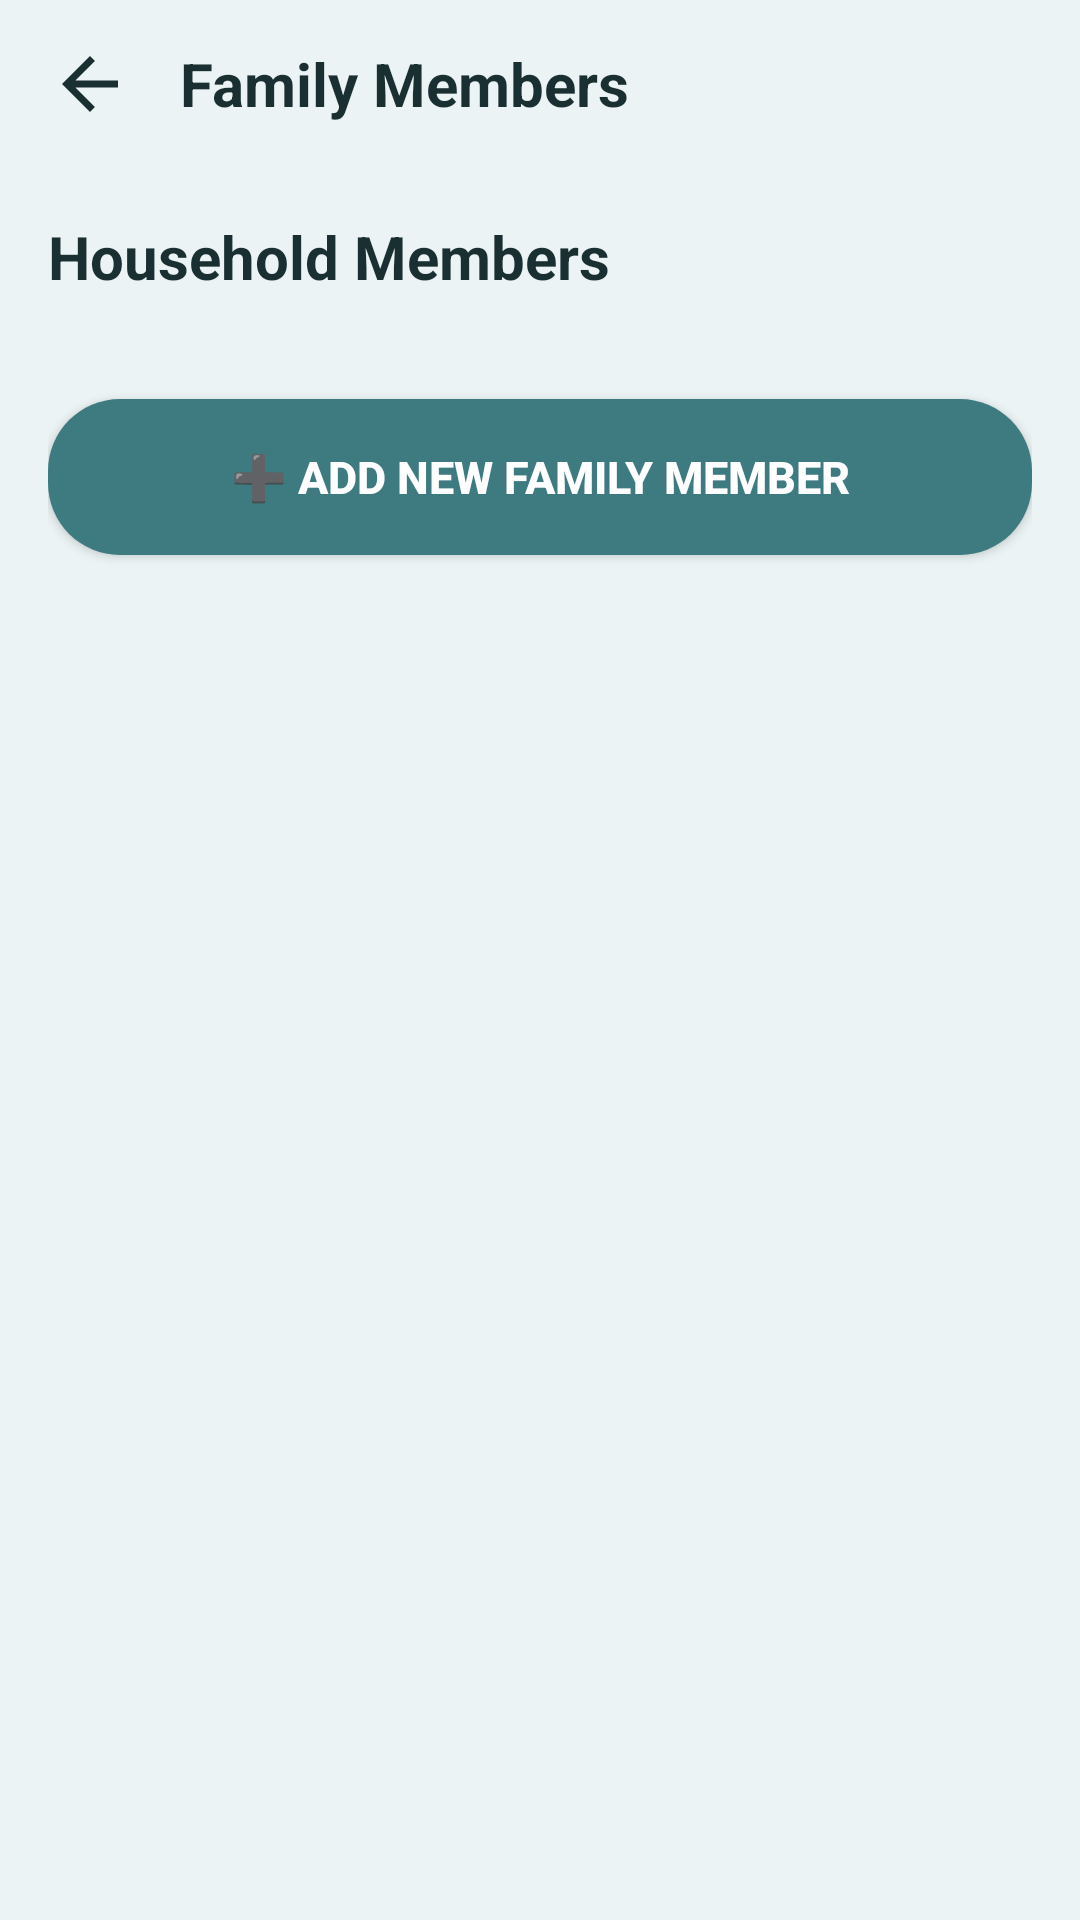

Locate icon controls on the screen. Image size 1080*1920, boxes as box=[x1, y1, x2, y2].
Back: box=[62, 56, 118, 112]
